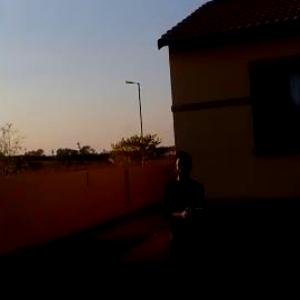follow: (155, 148, 235, 299)
